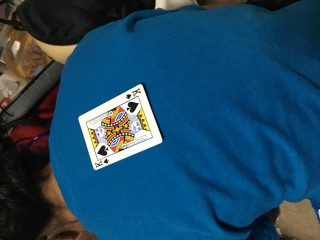KingOfSpades: (78, 84, 163, 172)
